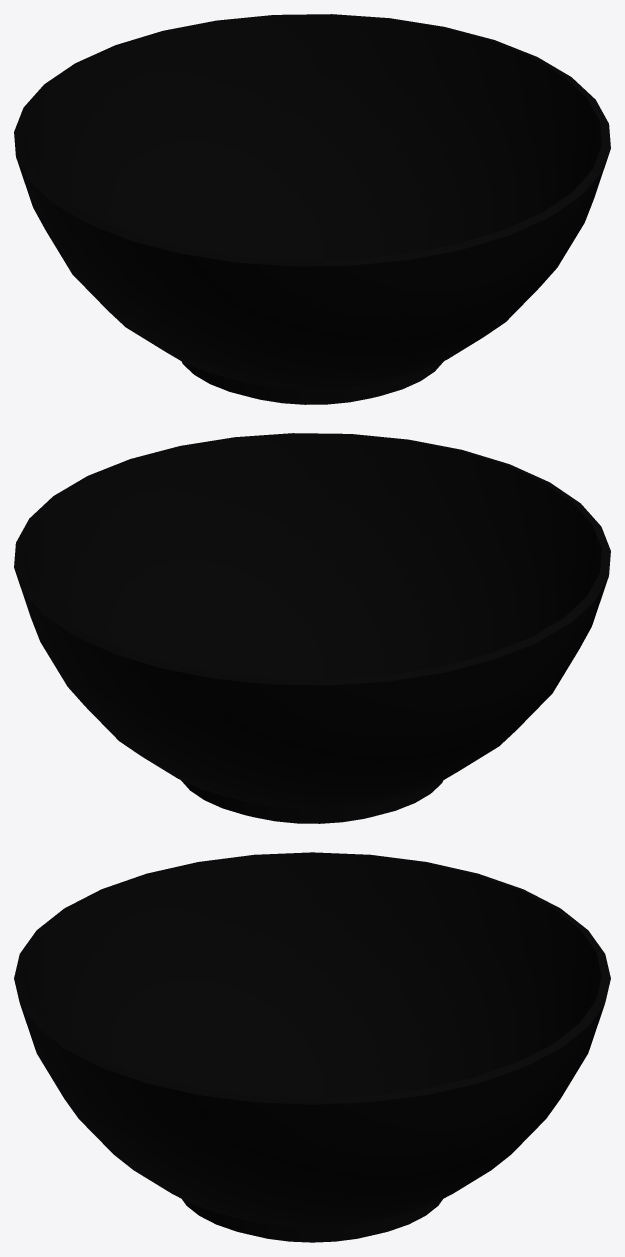
Rendered from mangkokfix.fbx.
3 renders of one model, top to bottom at view 1: azimuth 30°, elevation 25°; view 2: azimuth 150°, elevation 25°; view 3: azimuth 270°, elevation 25°, orthographic.
Visible parts, largest first — view 1: mangkok; view 2: mangkok; view 3: mangkok.
Part boxes in pixels (x1,y1,x2,y2): mangkok: [14, 14, 610, 404]; mangkok: [14, 433, 610, 823]; mangkok: [14, 852, 610, 1242].
Size of the model in its own units: 196 by 78.8 by 196.
